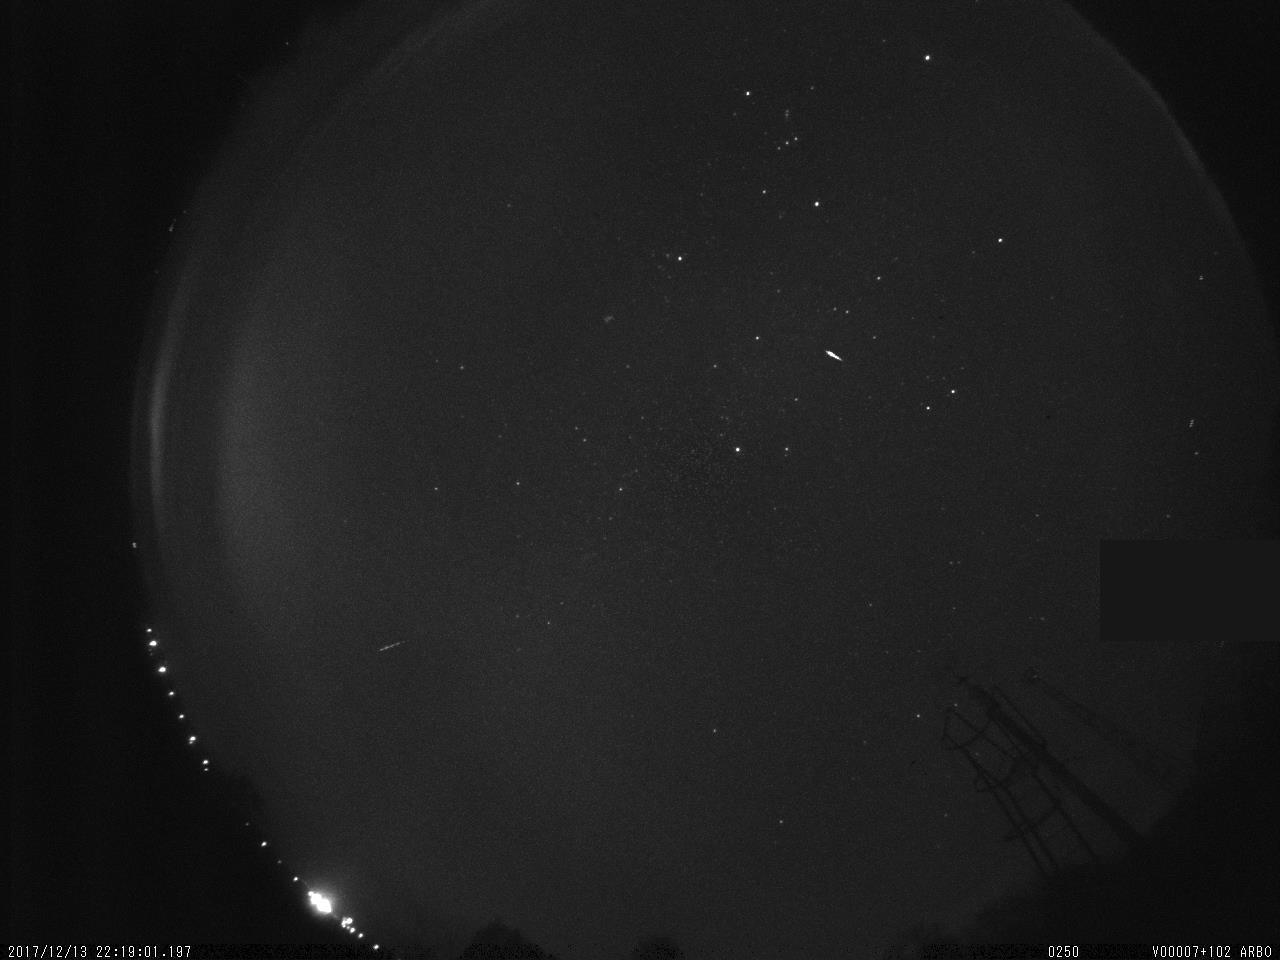Meteor: (372, 635, 412, 662), (820, 344, 848, 369)
